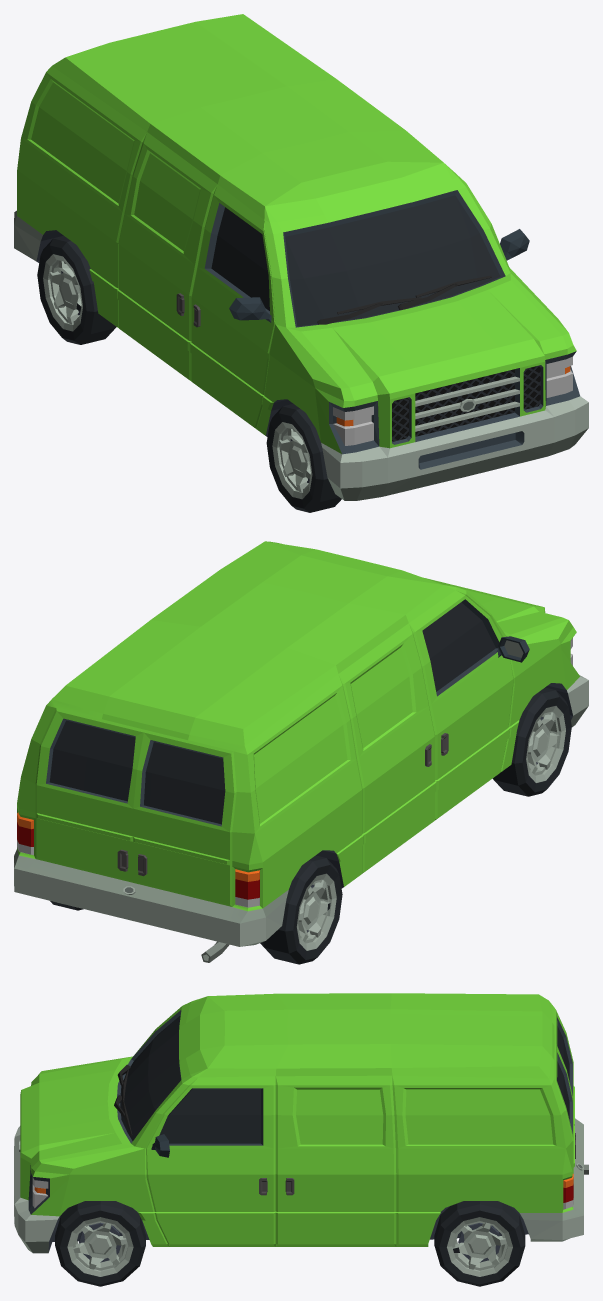
The model's file is Van_LightGreen.fbx.
The picture shows the model from 3 angles, top to bottom: view 1: azimuth 30°, elevation 25°; view 2: azimuth 150°, elevation 25°; view 3: azimuth 270°, elevation 25°; orthographic projection. The views are drawn at different scales.
Visible parts, largest first — view 1: SM_Van_3, SM_Veh_Car_Van_Wheel_rr.002, SM_Veh_Car_Van_Wheel_fr.002; view 2: SM_Van_3, SM_Veh_Car_Van_Wheel_rr.002, SM_Veh_Car_Van_Wheel_fr.002; view 3: SM_Van_3, SM_Veh_Car_Van_Wheel_rl.002, SM_Veh_Car_Van_Wheel_fl.002.
Boxes of the visible parts, x1,y1,x2,y2 form: SM_Van_3: (14, 14, 588, 500); SM_Veh_Car_Van_Wheel_rr.002: (37, 236, 116, 344); SM_Veh_Car_Van_Wheel_fr.002: (266, 404, 341, 512); SM_Van_3: (14, 541, 588, 962); SM_Veh_Car_Van_Wheel_rr.002: (260, 855, 342, 964); SM_Veh_Car_Van_Wheel_fr.002: (492, 687, 571, 796); SM_Van_3: (14, 993, 588, 1253); SM_Veh_Car_Van_Wheel_rl.002: (434, 1201, 525, 1286); SM_Veh_Car_Van_Wheel_fl.002: (55, 1201, 145, 1286).
Bounding box in the file's own units: 2.83 × 2.32 × 5.75.
